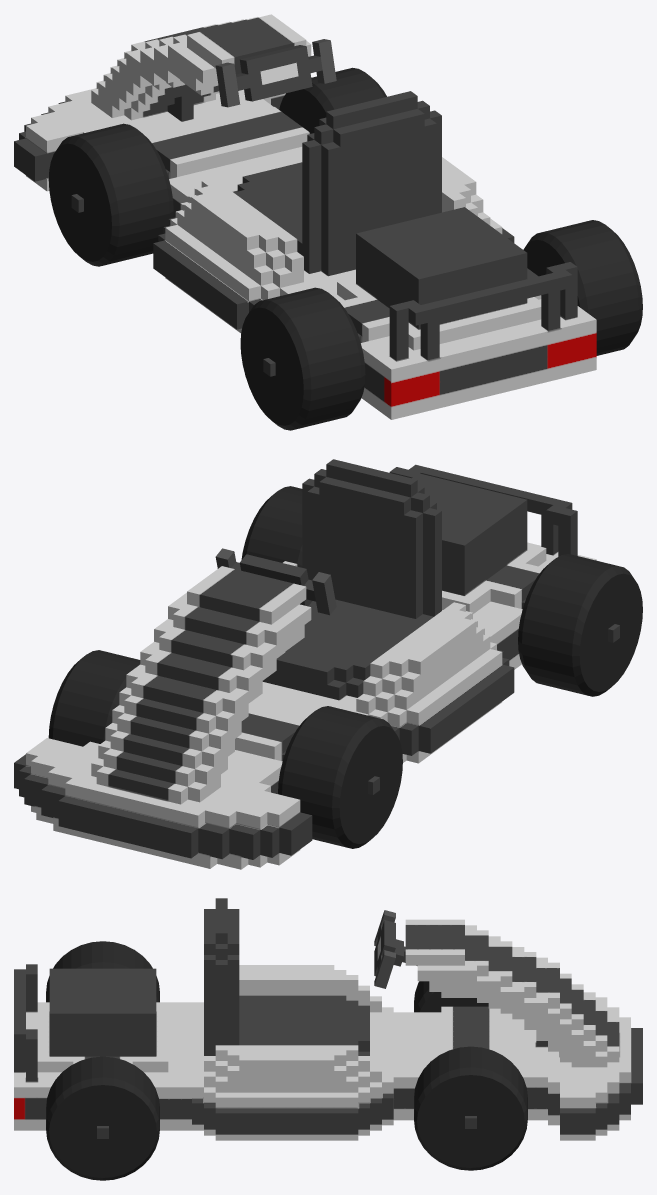
File: Kart V1.1.fbx
3 renders of one model, top to bottom at view 1: azimuth 30°, elevation 25°; view 2: azimuth 150°, elevation 25°; view 3: azimuth 270°, elevation 25°, orthographic. The views are drawn at different scales.
Visible parts, largest first — view 1: Kart Frame, Back Left Wheel, Front Left Wheel, Back Right Wheel, Steering Wheel, Front Right Wheel; view 2: Kart Frame, Back Left Wheel, Front Left Wheel, Front Right Wheel, Back Right Wheel, Steering Wheel; view 3: Kart Frame, Front Right Wheel, Back Right Wheel, Back Left Wheel, Steering Wheel, Front Left Wheel.
Part boxes in pixels (left/top/right/bottom): Kart Frame: left=14, top=14, right=596, bottom=419; Back Left Wheel: left=240, top=287, right=365, bottom=430; Front Left Wheel: left=48, top=123, right=173, bottom=266; Back Right Wheel: left=523, top=220, right=642, bottom=355; Steering Wheel: left=215, top=39, right=336, bottom=107; Front Right Wheel: left=279, top=67, right=386, bottom=133; Kart Frame: left=14, top=459, right=619, bottom=869; Back Left Wheel: left=518, top=554, right=642, bottom=696; Front Left Wheel: left=278, top=706, right=402, bottom=848; Front Right Wheel: left=48, top=650, right=140, bottom=746; Back Right Wheel: left=241, top=486, right=302, bottom=567; Steering Wheel: left=215, top=548, right=336, bottom=615; Kart Frame: left=14, top=898, right=642, bottom=1140; Front Right Wheel: left=414, top=1046, right=527, bottom=1170; Back Right Wheel: left=46, top=1056, right=159, bottom=1180; Back Left Wheel: left=46, top=941, right=159, bottom=1002; Steering Wheel: left=374, top=910, right=417, bottom=988; Front Left Wheel: left=414, top=981, right=488, bottom=1012.
Bounding box in the file's own units: 580 × 366 × 1060.
6 materials, 1 textured.
